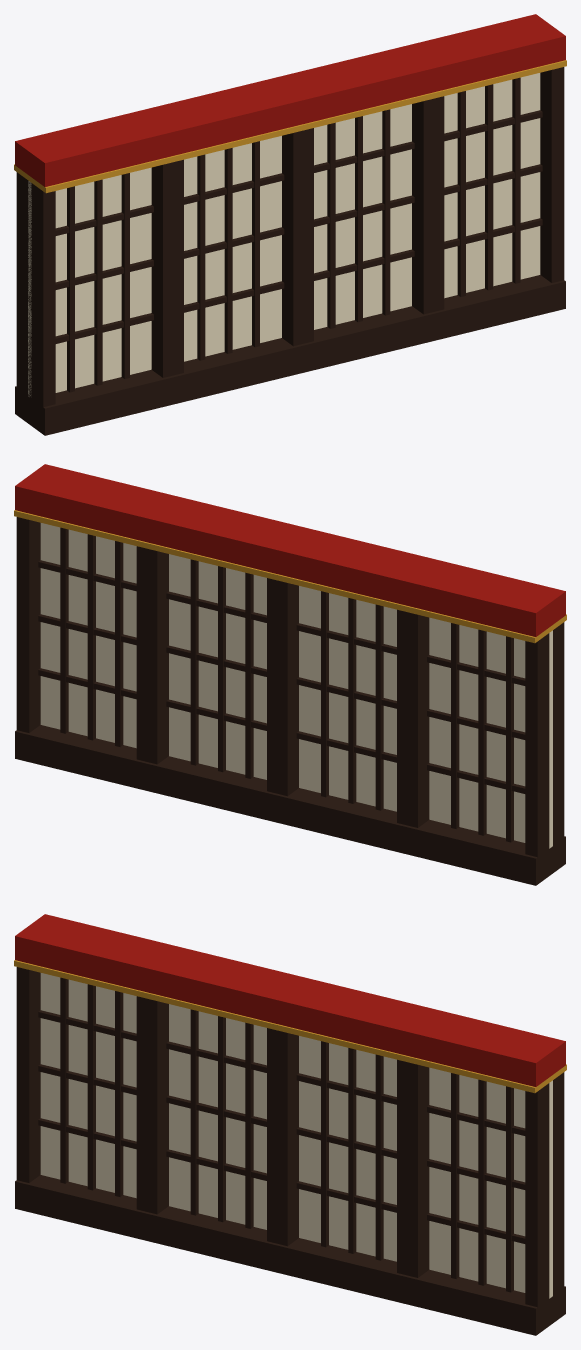
The model's file is SM_Bld_Shoji_Wall_Low_01.fbx.
3 renders of one model, top to bottom at view 1: azimuth 30°, elevation 25°; view 2: azimuth 150°, elevation 25°; view 3: azimuth 330°, elevation 25°, orthographic.
Visible parts, largest first — view 1: SM_Bld_Shoji_Wall_Low_01; view 2: SM_Bld_Shoji_Wall_Low_01; view 3: SM_Bld_Shoji_Wall_Low_01.
Part boxes in pixels (box(x1,y1,x2,y2)): SM_Bld_Shoji_Wall_Low_01: box(14, 14, 566, 435); SM_Bld_Shoji_Wall_Low_01: box(14, 464, 566, 885); SM_Bld_Shoji_Wall_Low_01: box(14, 914, 566, 1335).
Size of the model in its own units: 5 by 2.5 by 0.53.
2 materials, 2 textured.
